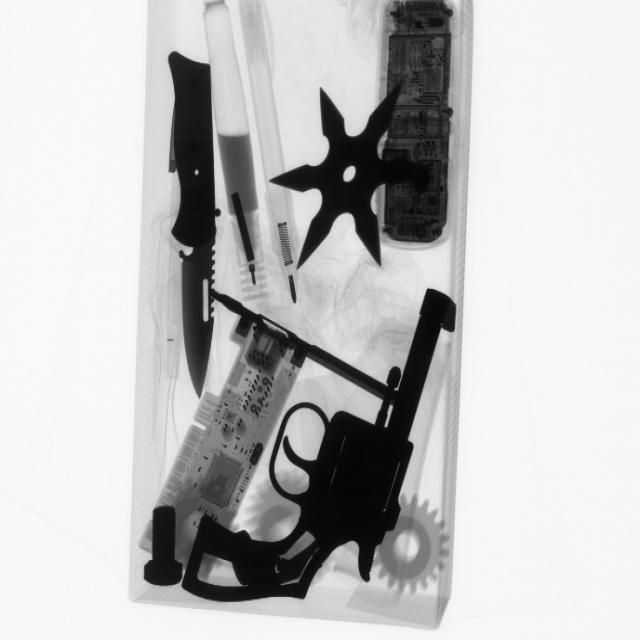GUN: (176, 284, 455, 615)
KNIFE: (160, 49, 237, 393)
SHURIKEN: (269, 76, 428, 271)
